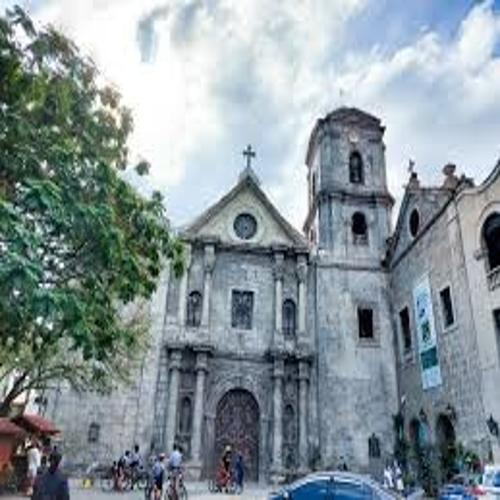San Agustin Church: (158, 86, 409, 489)
